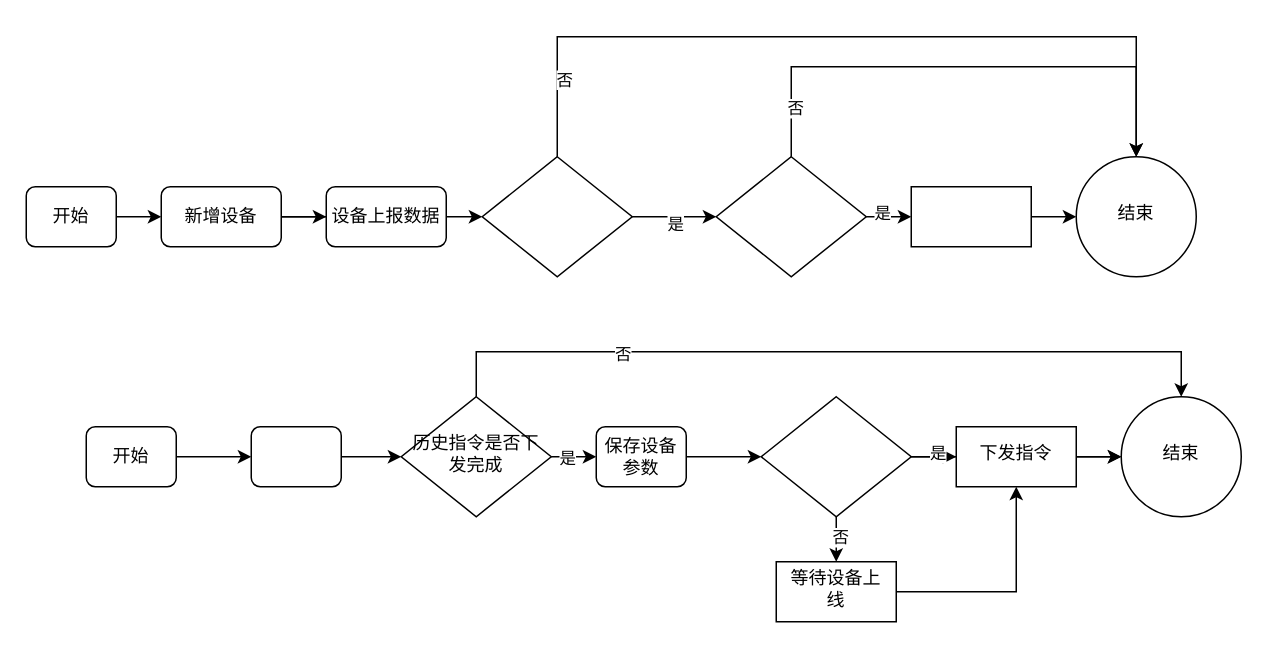
The diagram is 1268 pixels wide and 648 high, and some of its shapes have lost their labels. Here are the shapes that lost their labels. From the top down, the centre of each, then its label:
At point (556, 216): "是否告警".
At point (790, 216): "是否配置处理人".
At point (970, 216): "现场处理".
At point (295, 456): "输入设备参数".
At point (835, 456): "设备是否在线".
